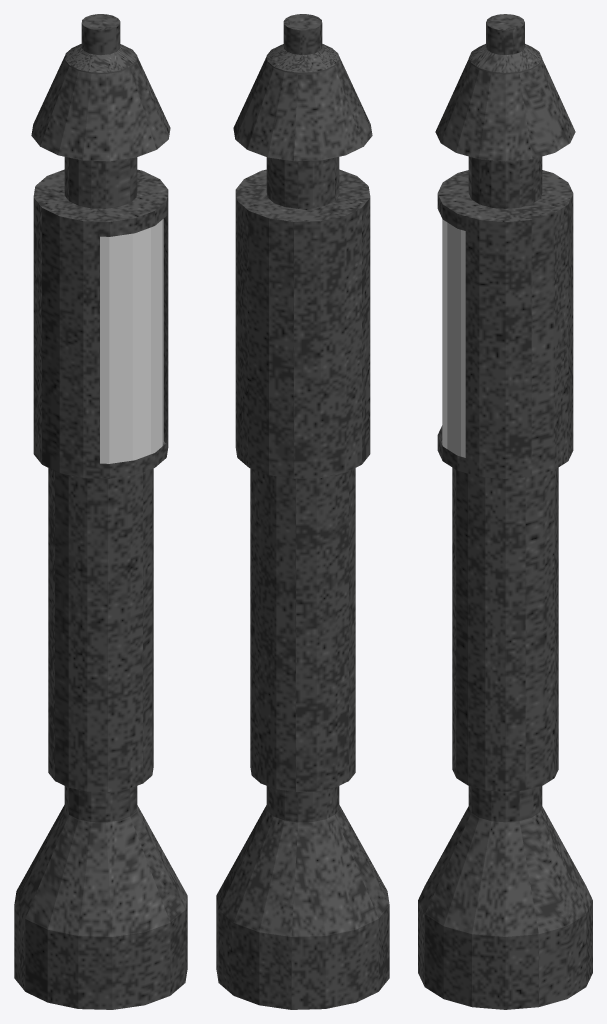
Rendered from Pipe 2.fbx.
The picture shows the model from 3 angles, left to right: view 1: azimuth 30°, elevation 25°; view 2: azimuth 150°, elevation 25°; view 3: azimuth 270°, elevation 25°; orthographic projection.
Visible parts, largest first — view 1: Cylinder.010; view 2: Cylinder.010; view 3: Cylinder.010.
Boxes of the visible parts, x1,y1,x2,y2 form: Cylinder.010: (14, 14, 187, 1009); Cylinder.010: (216, 14, 389, 1009); Cylinder.010: (418, 14, 592, 1009).
Bounding box in the file's own units: 64.35 × 386 × 64.35.
